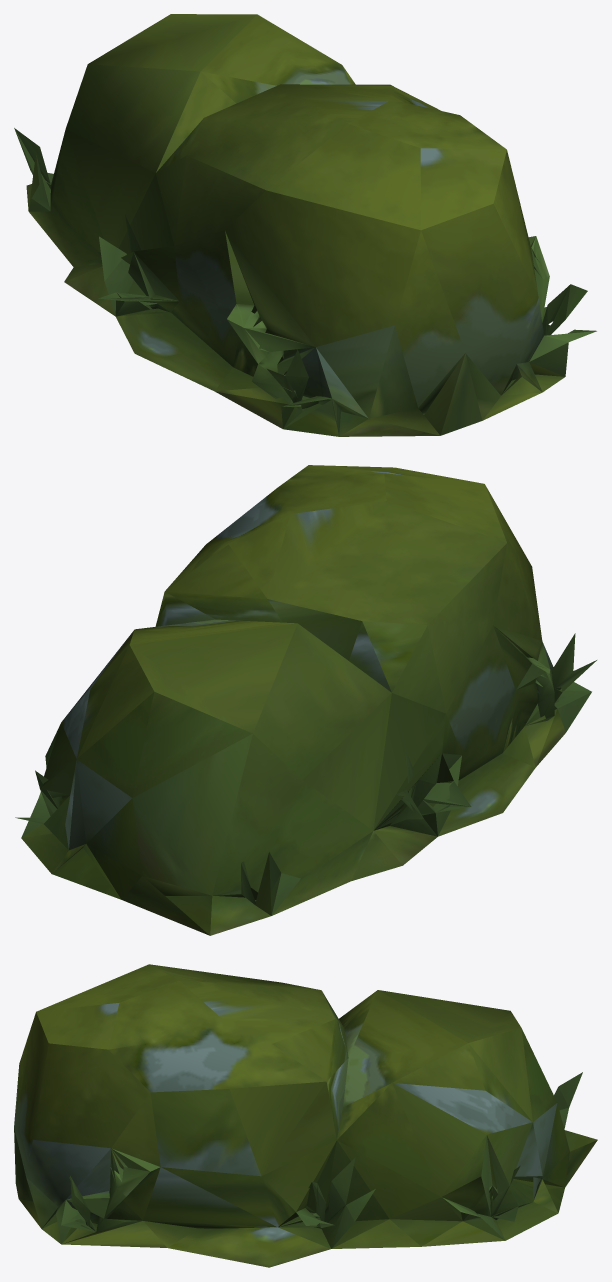
The picture shows the model from 3 angles, top to bottom: view 1: azimuth 30°, elevation 25°; view 2: azimuth 150°, elevation 25°; view 3: azimuth 270°, elevation 25°; orthographic projection. The views are drawn at different scales.
Visible parts, largest first — view 1: mossy_boulder; view 2: mossy_boulder; view 3: mossy_boulder.
Part boxes in pixels (<box>): mossy_boulder: <box>14,14,596,436</box>; mossy_boulder: <box>15,465,596,935</box>; mossy_boulder: <box>14,964,597,1267</box>.
Bounding box in the file's own units: 0.6 × 0.3824 × 0.9579.
1 material, 1 textured.
